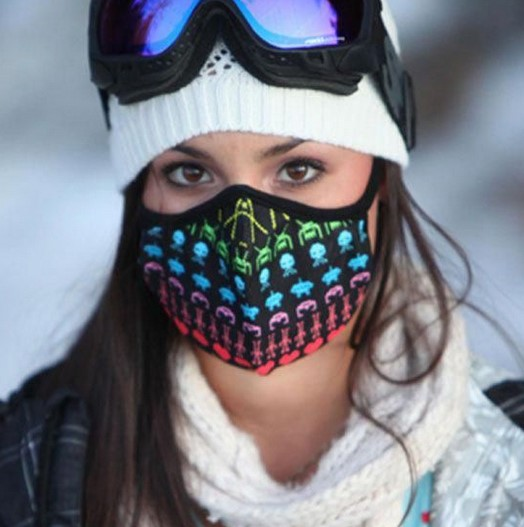face_with_mask: (86, 4, 410, 379)
